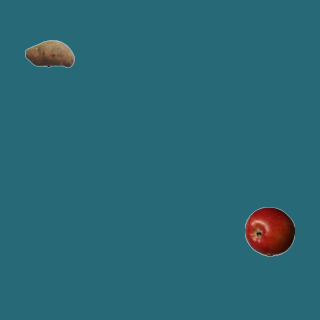Apple Braeburn: (244, 206, 294, 256)
Potato Sweet: (24, 28, 74, 78)
